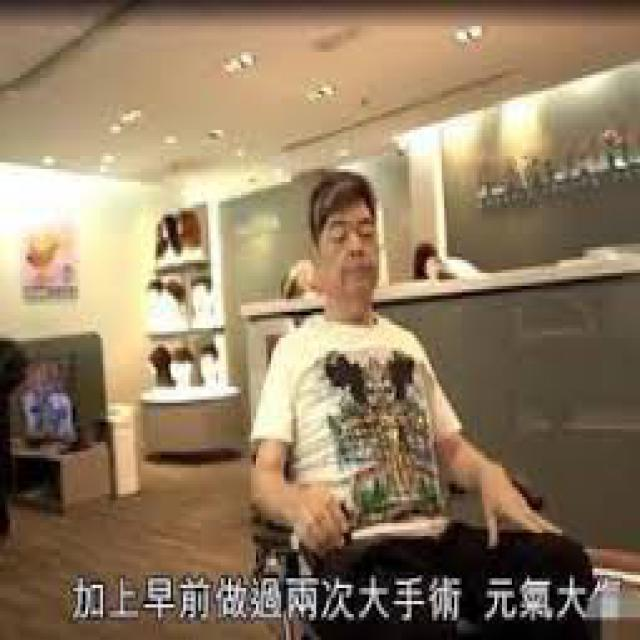wheelchairs: (238, 322, 628, 636)
